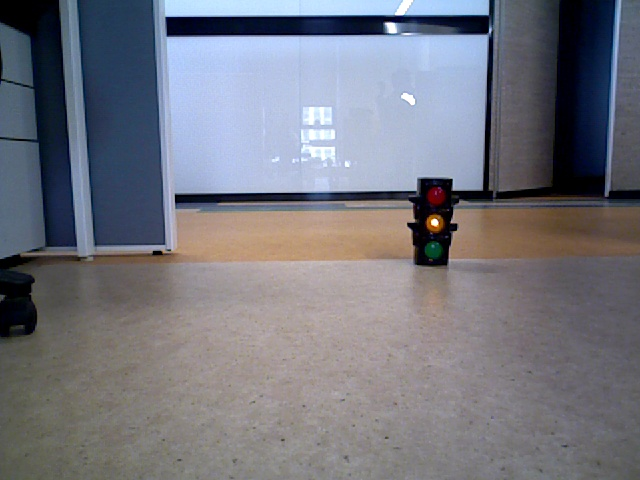yellow: (418, 182, 447, 263)
